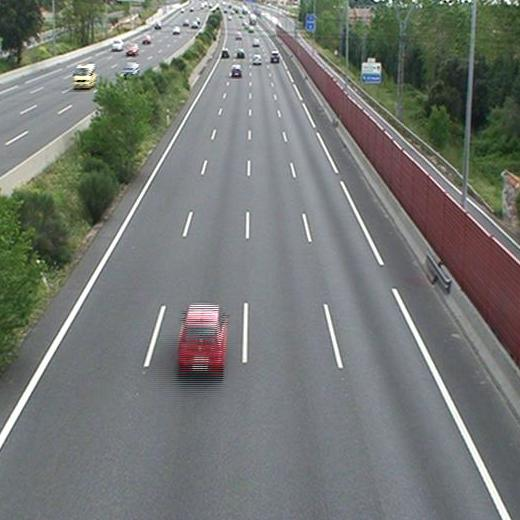car: (177, 306, 225, 371), (231, 65, 242, 77), (252, 54, 263, 64), (221, 48, 231, 58), (235, 49, 246, 58), (270, 52, 280, 61)
